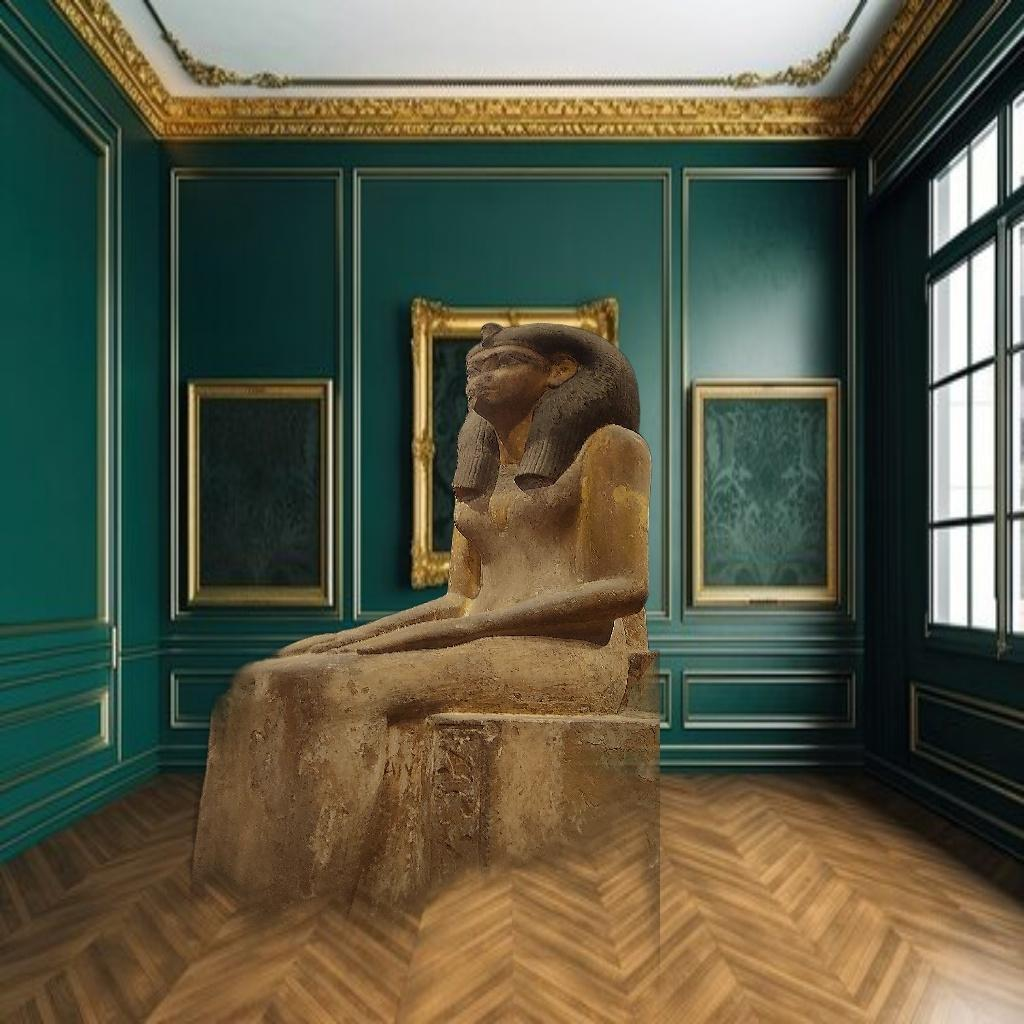Statue of Queen Metnoforet: (129, 316, 660, 1020)
